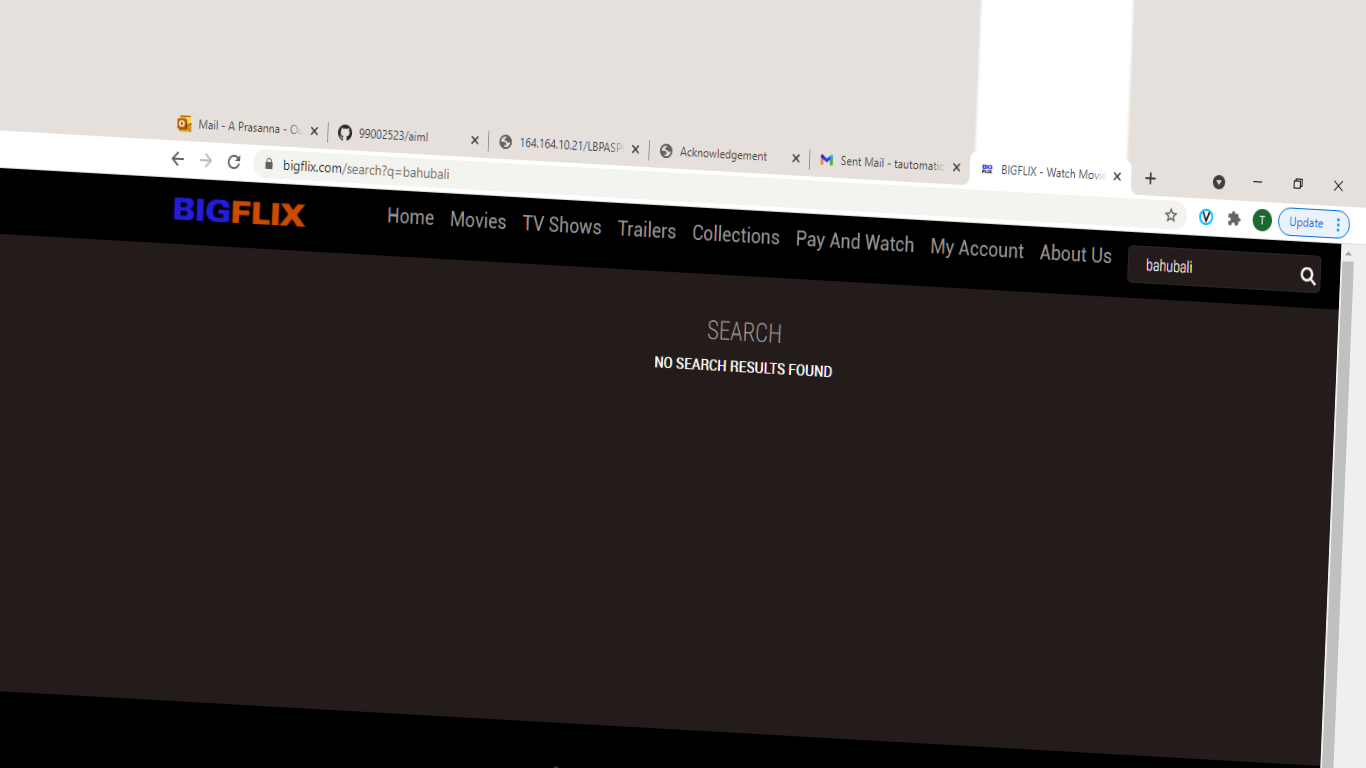noresultsfound: (627, 300, 934, 408)
searchicon: (1288, 251, 1327, 288)
searchtextbox: (1144, 244, 1327, 296)
